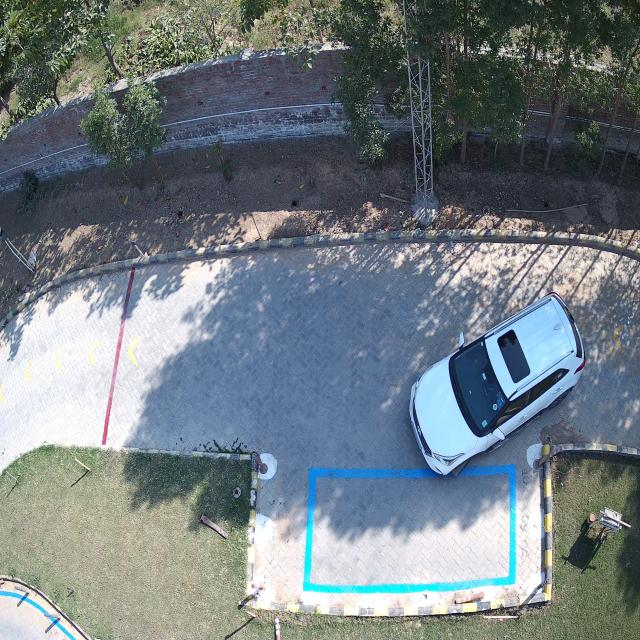car: (410, 293, 586, 475)
